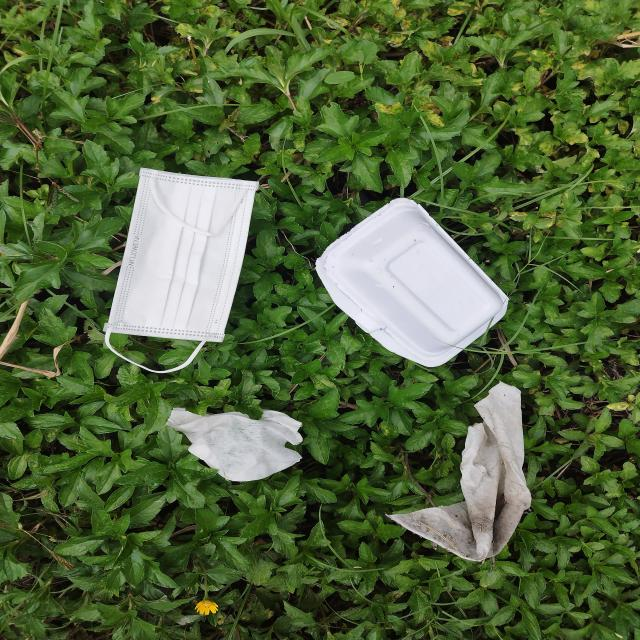foam box: (316, 198, 508, 368)
mask: (103, 167, 261, 373)
napkin: (387, 379, 533, 562), (167, 407, 303, 482)
